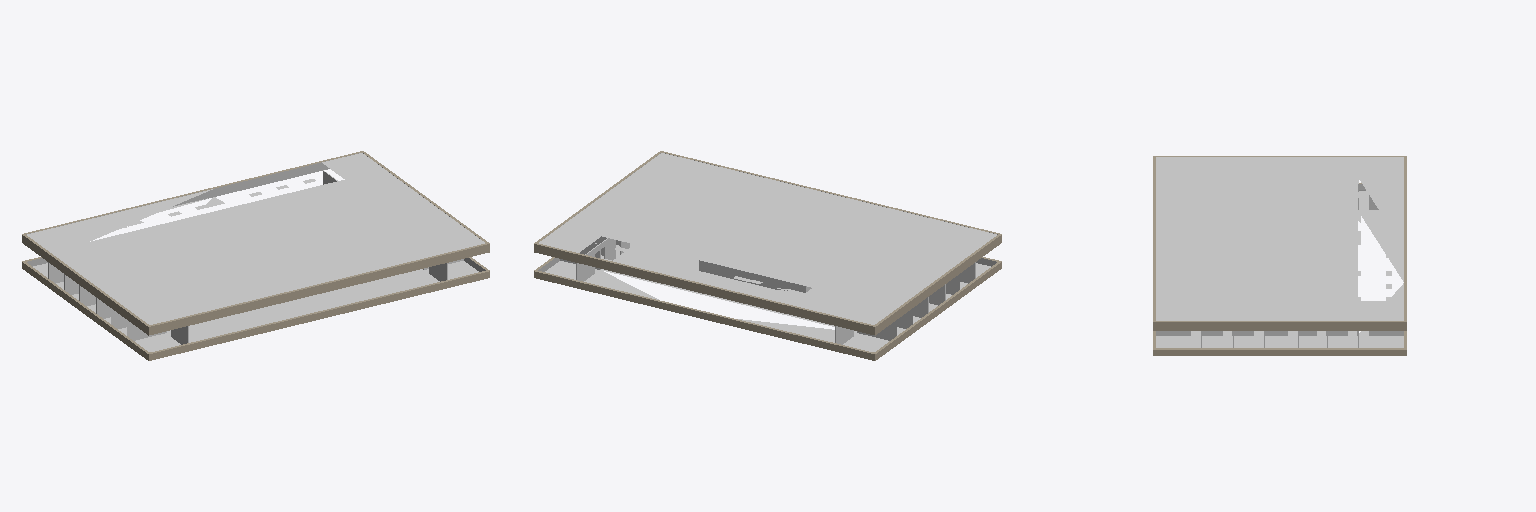
The model's file is Envelope_WWRBaseline_9ft.obj.
3 views of the same model, side by side, from view 1: azimuth 30°, elevation 25°; view 2: azimuth 150°, elevation 25°; view 3: azimuth 270°, elevation 25° (orthographic).
Visible parts, largest first — view 1: floor9ft; view 2: floor9ft; view 3: floor9ft.
Boxes of the visible parts, x1=… form: floor9ft: x1=22, y1=151, x2=489, y2=360; floor9ft: x1=534, y1=151, x2=1001, y2=360; floor9ft: x1=1153, y1=156, x2=1406, y2=355.
Size of the model in its own units: 38.72 by 3.69 by 24.94.